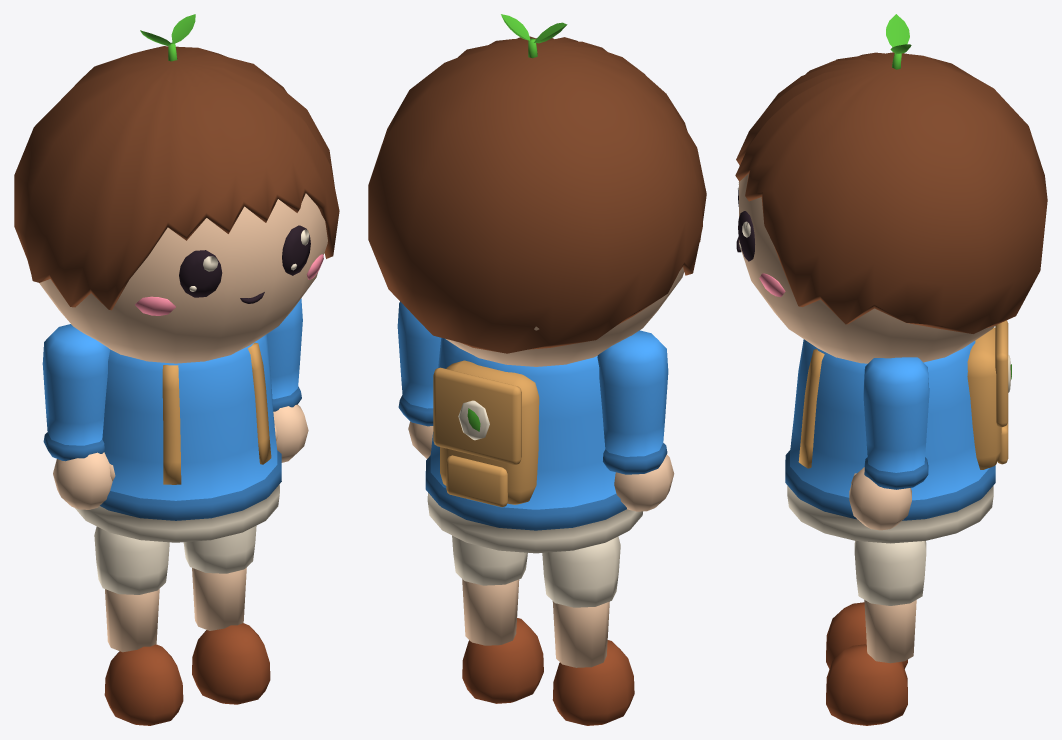
The model's file is hero-teen.glb.
3 renders of one model, left to right at view 1: azimuth 30°, elevation 25°; view 2: azimuth 150°, elevation 25°; view 3: azimuth 270°, elevation 25°, orthographic. The views are drawn at different scales.
Parts seen in each view (by area): view 1: head, body, leg-left, leg-right, arm-left, arm-right, head-leaf; view 2: head, body, leg-left, arm-left, leg-right, arm-right, head-leaf; view 3: head, body, leg-right, arm-right, leg-left, head-leaf.
Boxes of the visible parts, x1=… form: head: x1=14, y1=46, x2=339, y2=363; body: x1=75, y1=334, x2=281, y2=542; leg-left: x1=94, y1=526, x2=183, y2=725; leg-right: x1=183, y1=525, x2=270, y2=704; arm-left: x1=42, y1=324, x2=115, y2=509; arm-right: x1=266, y1=298, x2=308, y2=462; head-leaf: x1=140, y1=14, x2=195, y2=61; head: x1=368, y1=36, x2=706, y2=366; body: x1=425, y1=338, x2=642, y2=553; leg-left: x1=542, y1=536, x2=634, y2=725; arm-left: x1=597, y1=330, x2=674, y2=511; leg-right: x1=452, y1=535, x2=543, y2=703; arm-right: x1=397, y1=301, x2=441, y2=458; head-leaf: x1=501, y1=14, x2=567, y2=58; head: x1=735, y1=52, x2=1047, y2=363; body: x1=785, y1=320, x2=1011, y2=543; leg-right: x1=826, y1=541, x2=926, y2=725; arm-right: x1=849, y1=357, x2=929, y2=530; leg-left: x1=826, y1=602, x2=907, y2=668; head-leaf: x1=886, y1=14, x2=911, y2=69.
Size of the model in its own units: 1.11 by 2.51 by 1.07.
